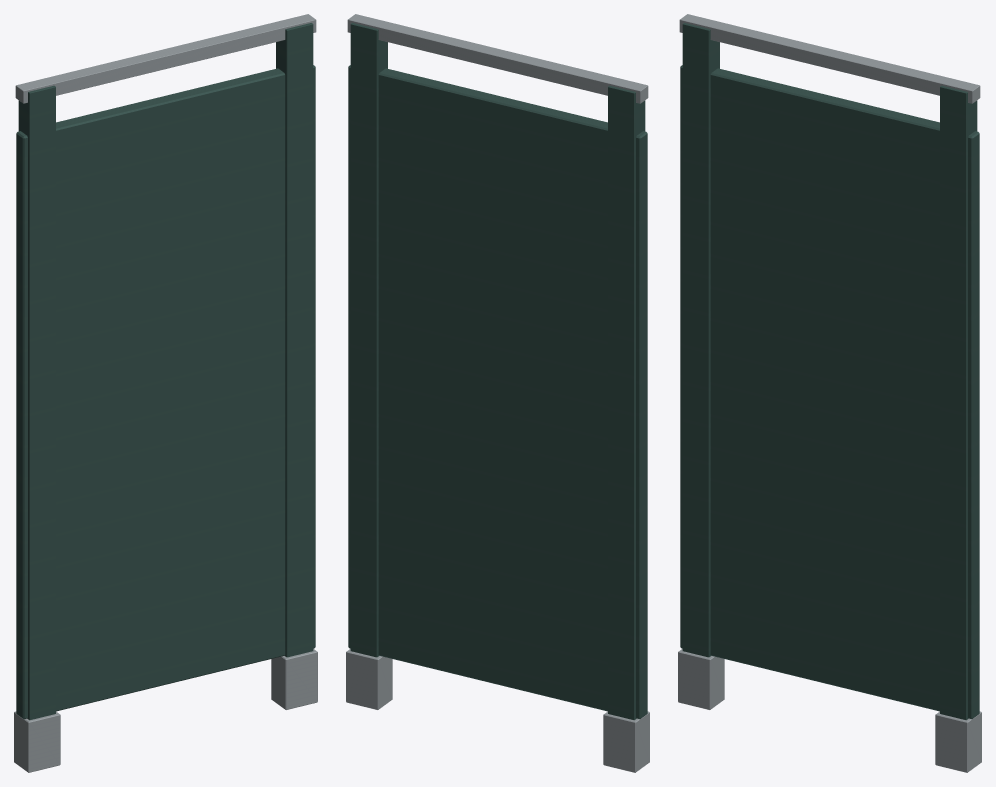
File: restroom_stall_front.glb
3 views of the same model, side by side, from view 1: azimuth 30°, elevation 25°; view 2: azimuth 150°, elevation 25°; view 3: azimuth 330°, elevation 25° (orthographic).
Parts seen in each view (by area): view 1: restroom_stall_front; view 2: restroom_stall_front; view 3: restroom_stall_front.
Part boxes in pixels (left/top/right/bottom): restroom_stall_front: left=14, top=14, right=317, bottom=772; restroom_stall_front: left=346, top=14, right=649, bottom=772; restroom_stall_front: left=678, top=14, right=981, bottom=772.
Bounding box in the file's own units: 0.9 × 2 × 0.078.
Materials: 2 (2 with a texture image).
